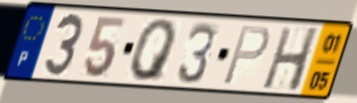3: (42, 11, 87, 78), (177, 19, 217, 87)
5: (82, 14, 129, 80)
H: (259, 26, 322, 94)
P: (220, 24, 273, 88)
Q: (128, 17, 179, 84)
